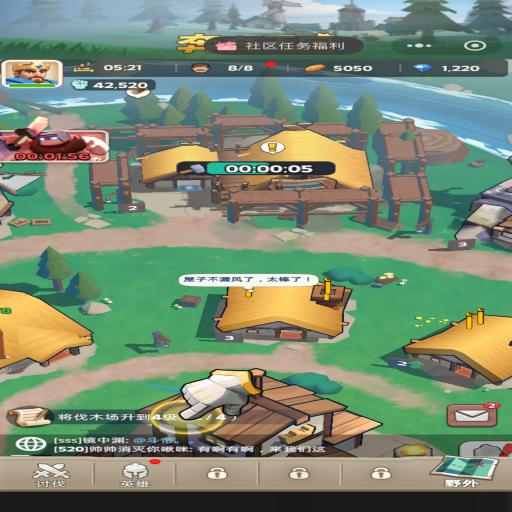newcomer_hand: (178, 368, 261, 420)
